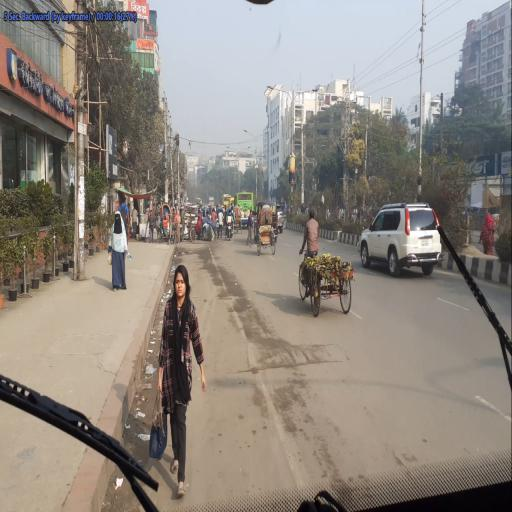minibus: (235, 191, 255, 231), (221, 195, 232, 206), (208, 197, 215, 209), (230, 197, 235, 207), (198, 198, 203, 206)
motorbike: (226, 210, 234, 240)
rickshaw: (255, 207, 277, 257), (157, 202, 180, 245), (233, 204, 243, 235), (350, 204, 359, 225), (336, 205, 345, 220), (301, 203, 309, 216), (203, 208, 211, 220), (217, 208, 225, 220)
suv: (357, 202, 442, 278), (277, 202, 285, 236)
van: (253, 199, 279, 245)
